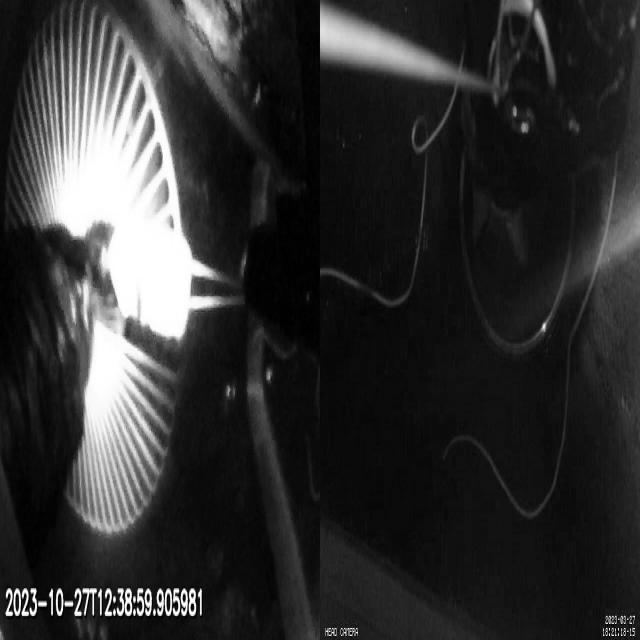head: (111, 212, 192, 341)
